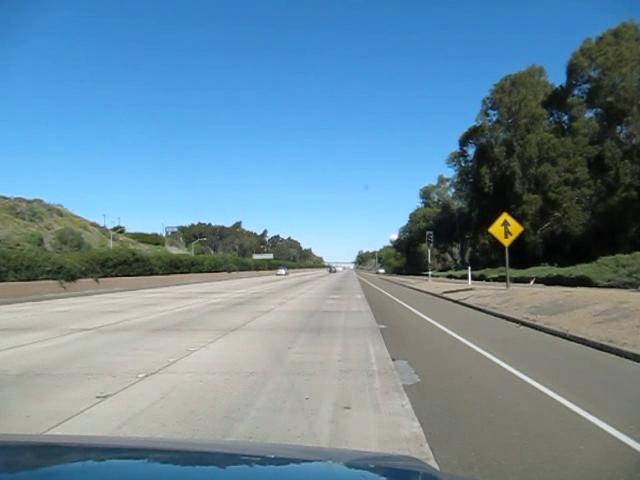merge: (488, 211, 525, 247)
